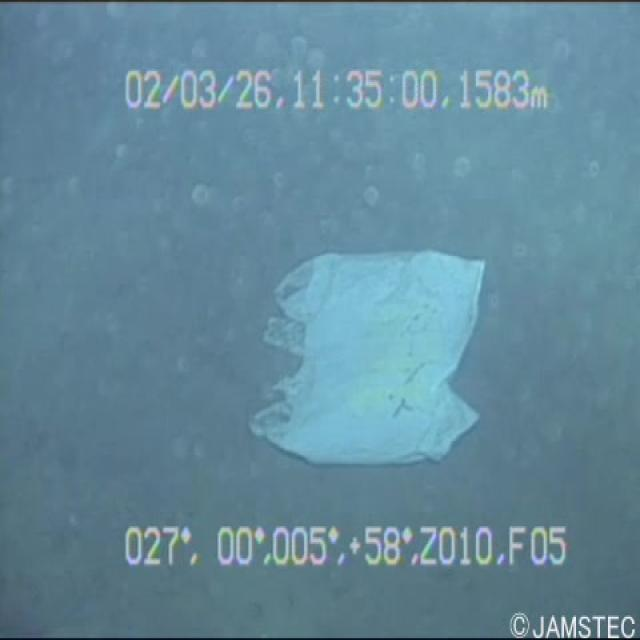plastic: (247, 213, 482, 489)
